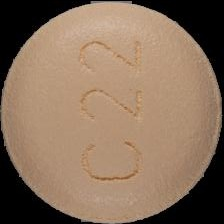55154-6131: (0, 0, 224, 224)
